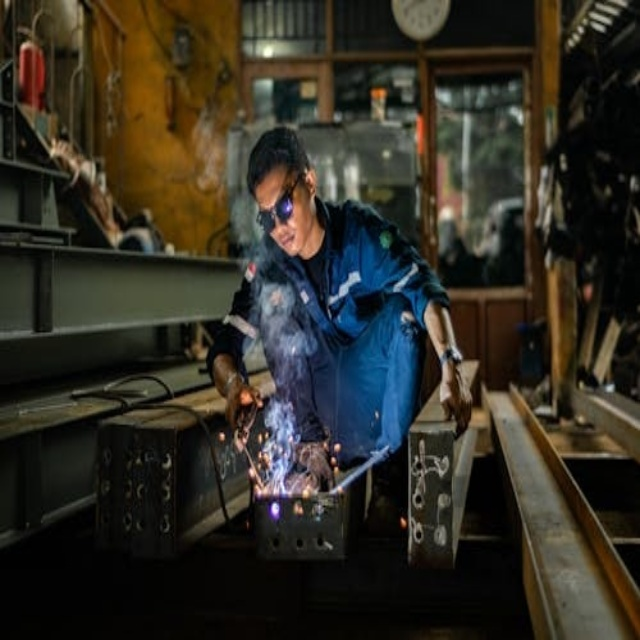Gafas: (257, 170, 305, 232)
Sin_guantes: (221, 368, 263, 443), (438, 354, 472, 435)
Sin_mascara: (273, 231, 300, 258)
